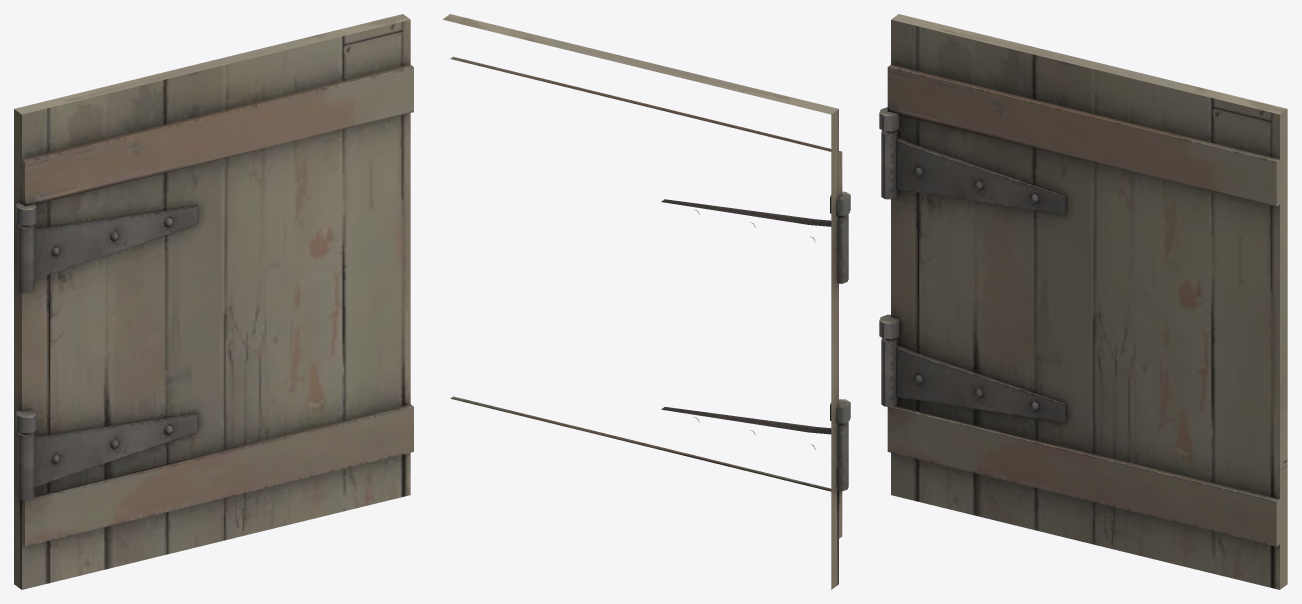
3 views of the same model, side by side, from view 1: azimuth 30°, elevation 25°; view 2: azimuth 150°, elevation 25°; view 3: azimuth 330°, elevation 25° (orthographic).
Parts seen in each view (by area): view 1: body0_model0_lod0_mesh0; view 2: body0_model0_lod0_mesh0; view 3: body0_model0_lod0_mesh0.
Boxes of the visible parts, box(x1,y1,x2,y2) form: body0_model0_lod0_mesh0: box(14, 14, 413, 589); body0_model0_lod0_mesh0: box(443, 14, 850, 589); body0_model0_lod0_mesh0: box(879, 14, 1287, 589).
Size of the model in its own units: 73.37 by 84.1 by 5.21.
Materials: 1 (1 with a texture image).
